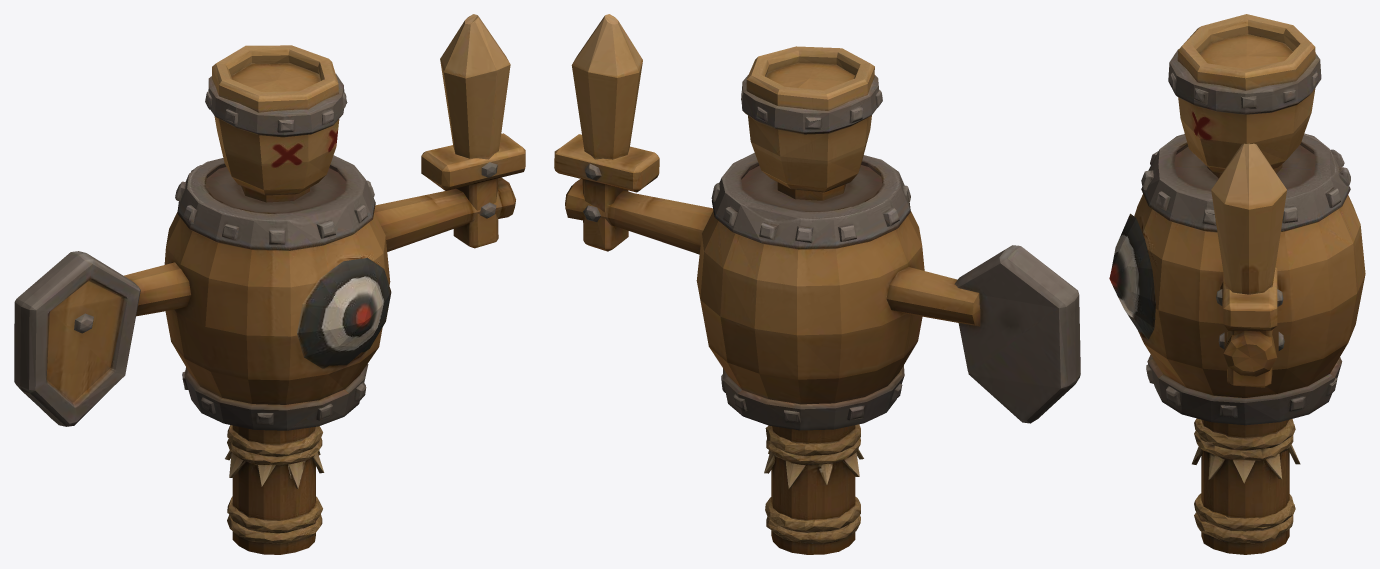
Rendered from Ch_Scareclow.fbx.
The picture shows the model from 3 angles, left to right: view 1: azimuth 30°, elevation 25°; view 2: azimuth 150°, elevation 25°; view 3: azimuth 270°, elevation 25°; orthographic projection. The views are drawn at different scales.
Parts seen in each view (by area): view 1: Scare_Crow; view 2: Scare_Crow; view 3: Scare_Crow.
Part boxes in pixels (x1,y1,x2,y2): Scare_Crow: [14, 14, 525, 554]; Scare_Crow: [554, 14, 1080, 554]; Scare_Crow: [1109, 14, 1365, 554].
Size of the model in its own units: 236 by 211 by 98.66.
Materials: 1 (1 with a texture image).
